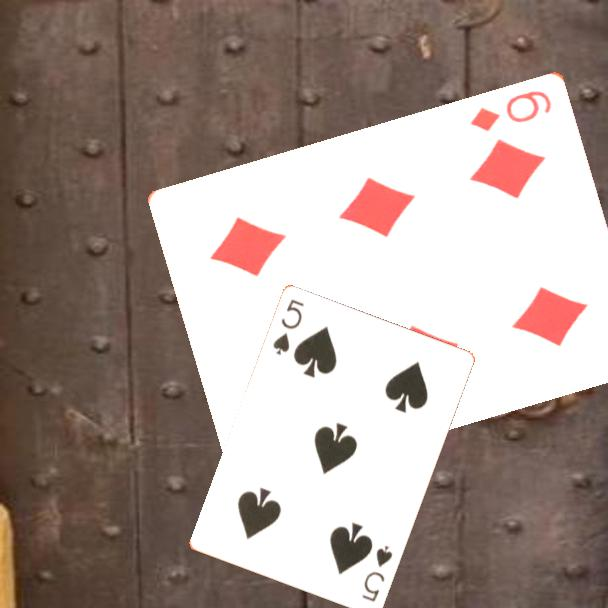d06: (467, 86, 555, 134)
s05: (358, 542, 396, 605), (269, 296, 307, 358)
